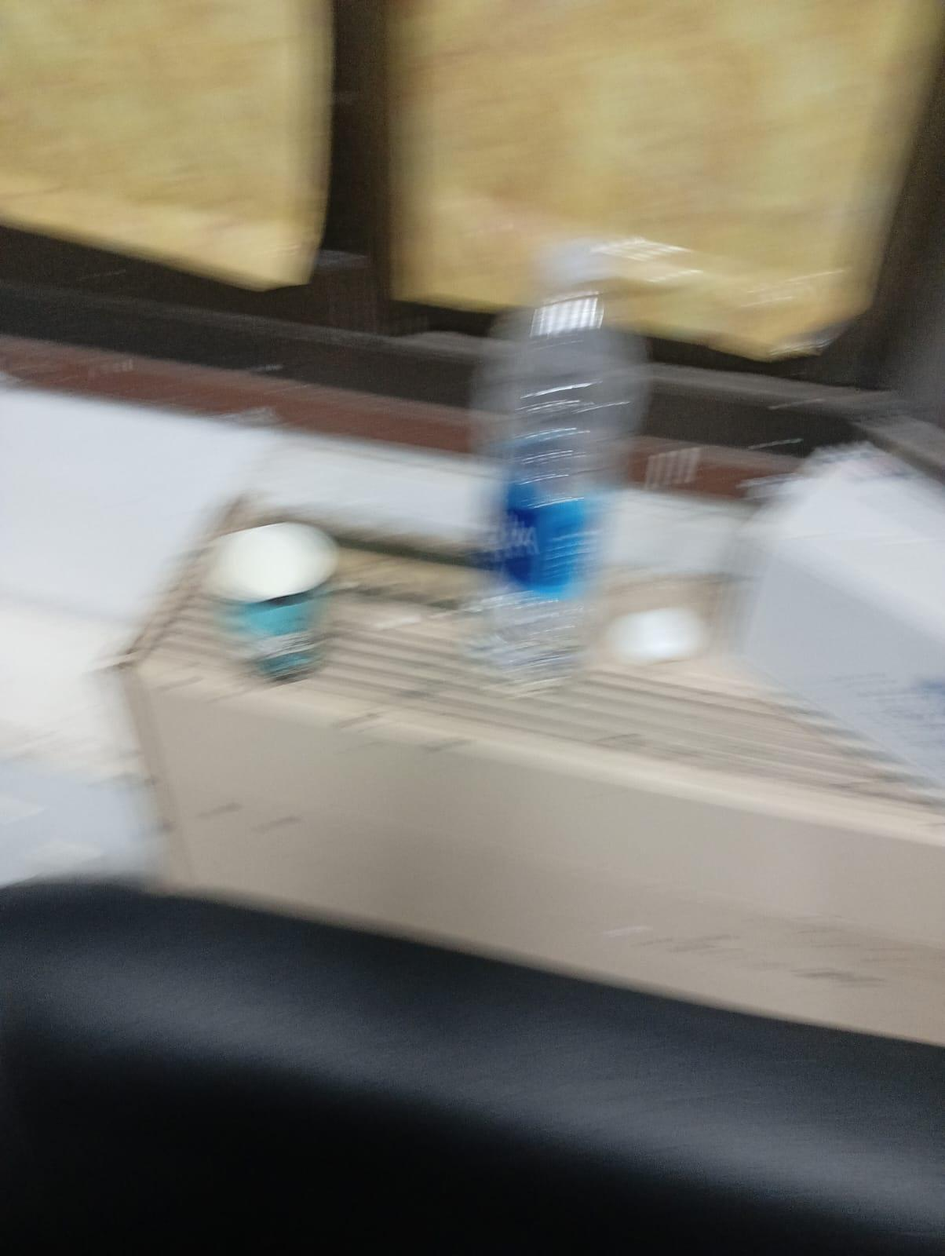cup: (205, 523, 338, 677)
